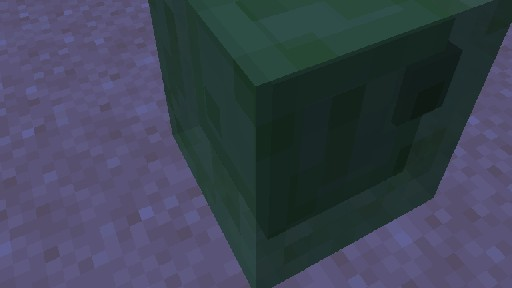slime: (135, 0, 512, 288)
